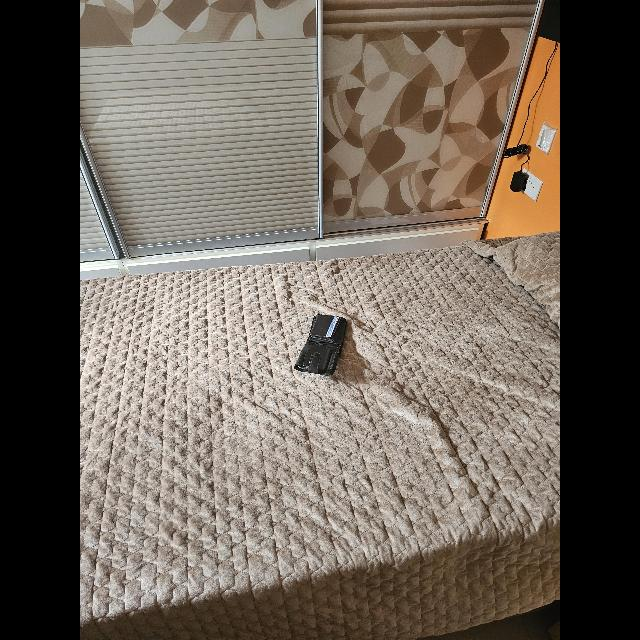Wallet: (294, 315, 346, 377)
